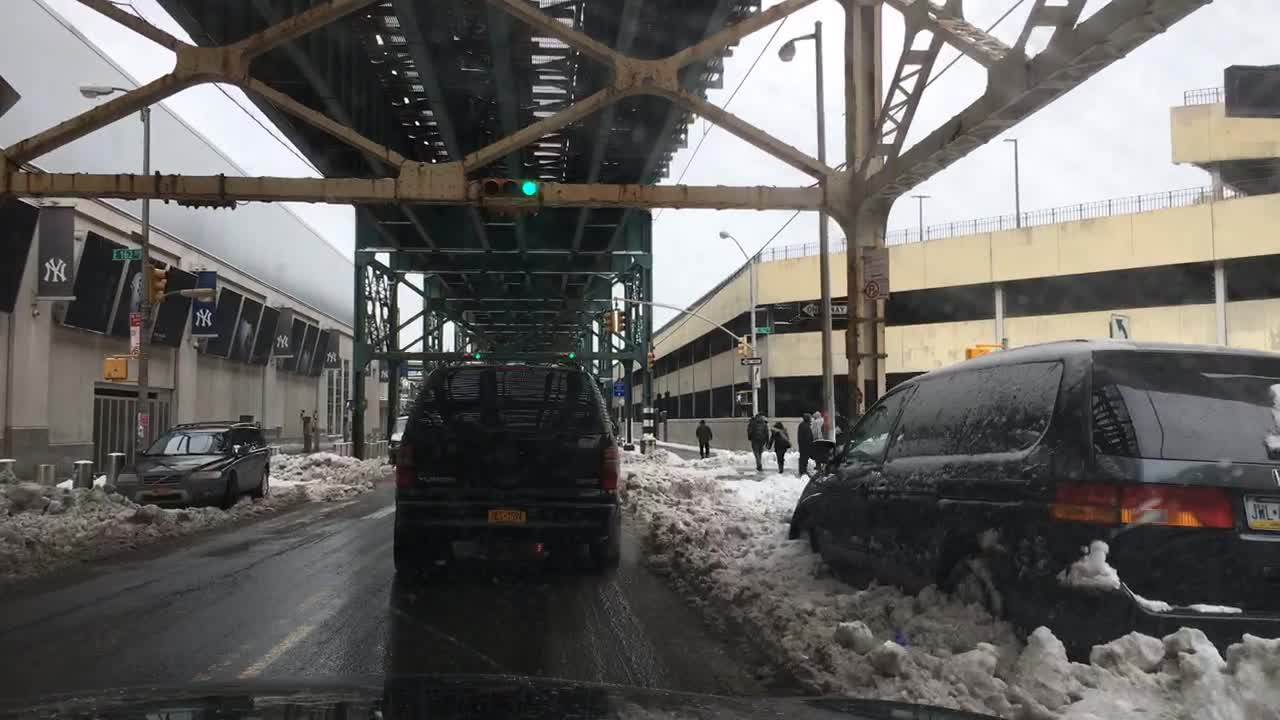car: (784, 338, 1279, 666), (389, 360, 623, 573), (109, 416, 273, 509), (388, 412, 410, 461)
person: (746, 410, 772, 472), (766, 420, 792, 472), (796, 411, 814, 476), (808, 408, 827, 469), (696, 416, 711, 456)
traffic light: (481, 177, 540, 199), (149, 264, 165, 305), (103, 355, 128, 381), (962, 346, 990, 361), (603, 310, 612, 335), (736, 336, 746, 358), (734, 391, 751, 403), (617, 309, 626, 331), (461, 351, 481, 360), (647, 351, 656, 371), (556, 351, 576, 359)
traffic sign: (862, 245, 890, 300), (798, 300, 848, 319), (1106, 311, 1134, 340), (128, 314, 140, 350), (113, 247, 140, 260), (739, 356, 762, 364), (752, 325, 772, 333), (753, 366, 761, 386)
